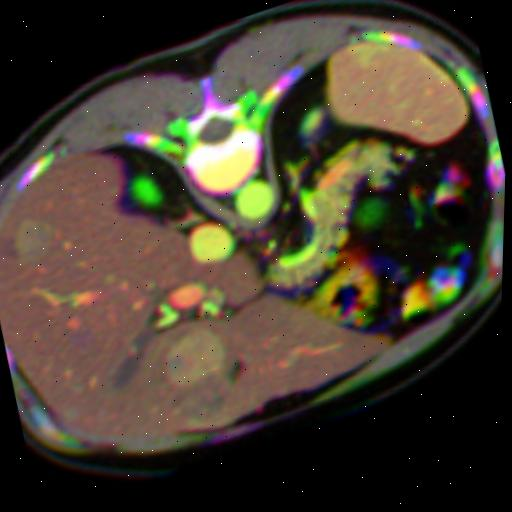Tumor: (115, 336, 156, 392)
